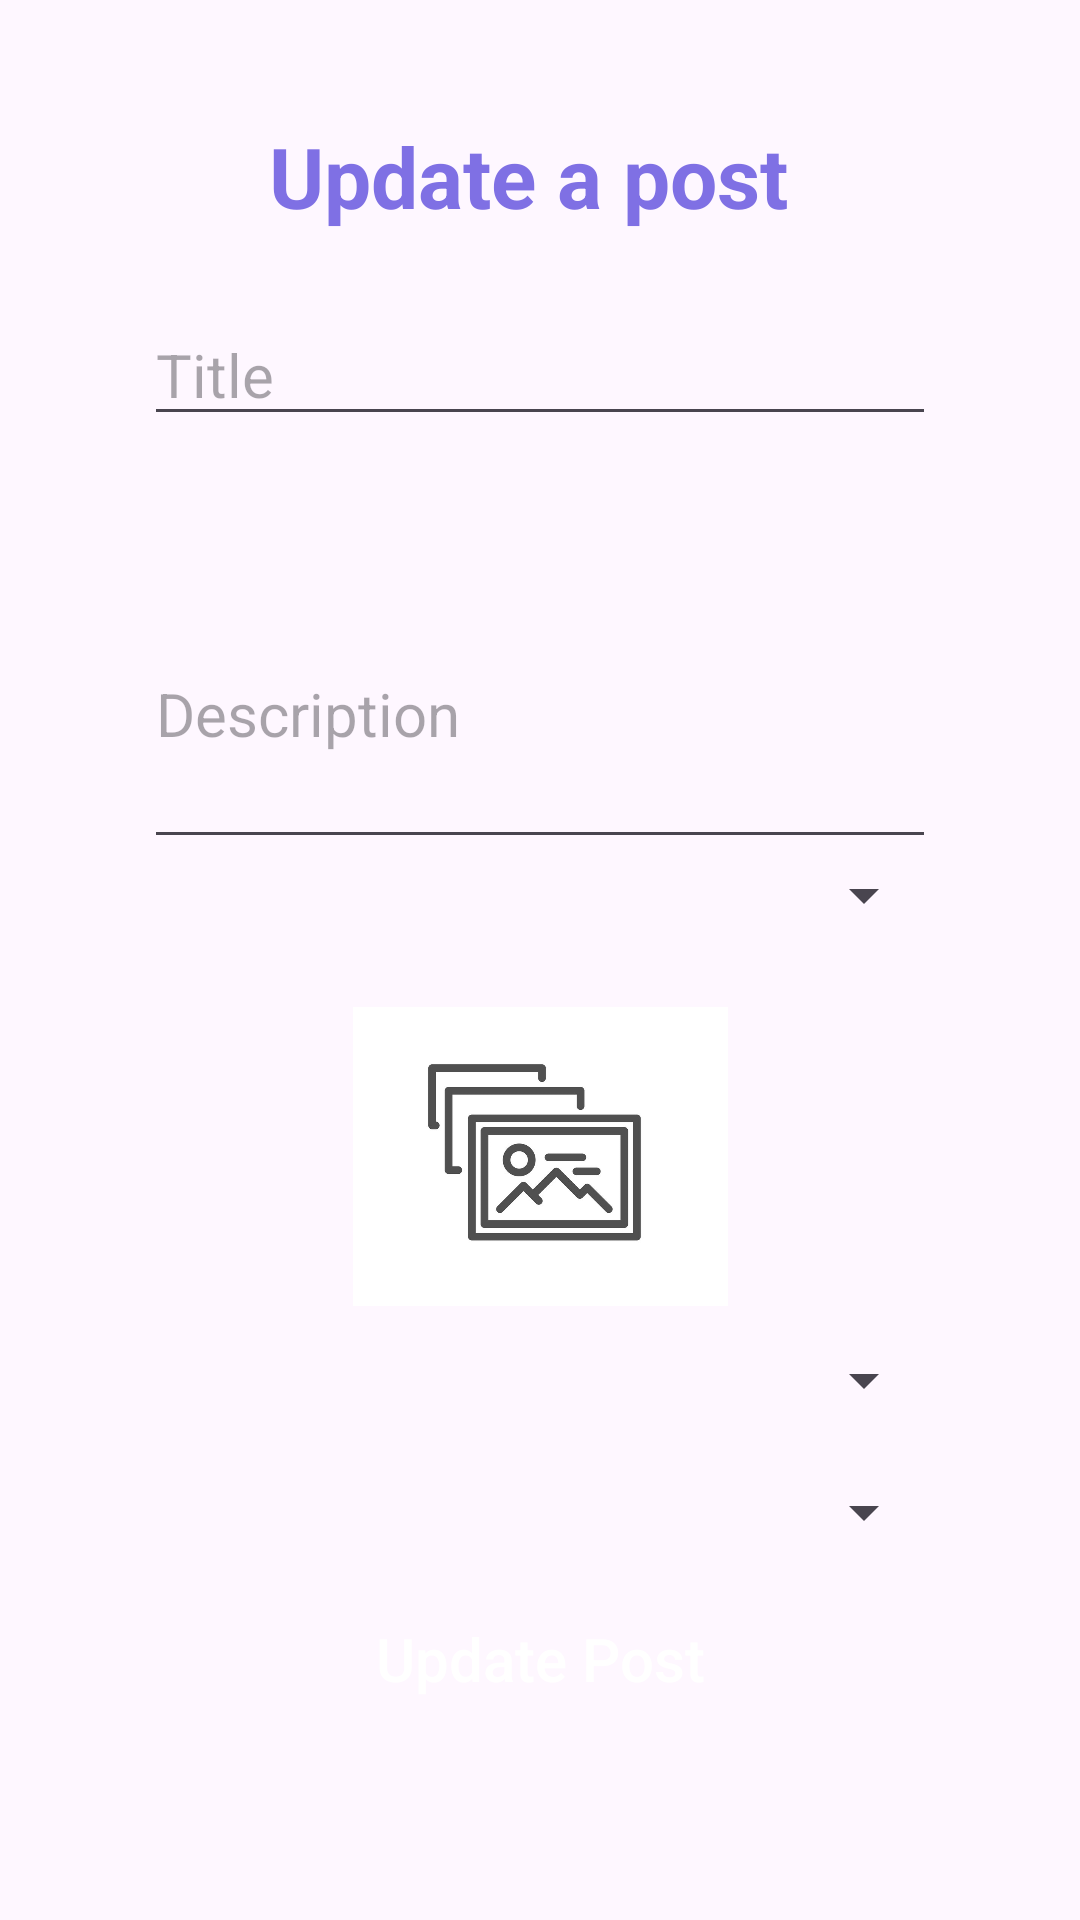

Locate icon controls on the screen. Image size 1080 × 1920, boxes as bbox(x1, y1, x2, y2).
photos: bbox(428, 1064, 641, 1241)
